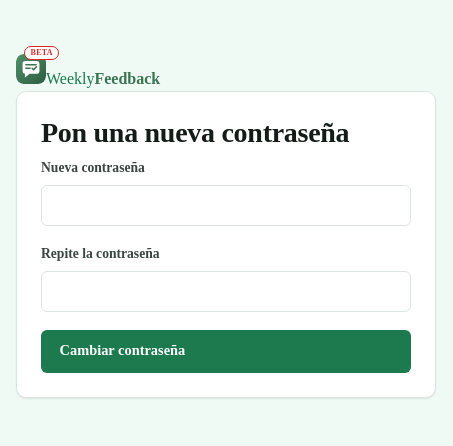
Scenario: ResetPasswordPage › error que no es ApiError: cae en el mensaje genérico de enlace inválido
The image size is (453, 446).
Type "password123" into the password field labelled "Nueva contraseña". click: [226, 206]
box: [41,185,411,226]
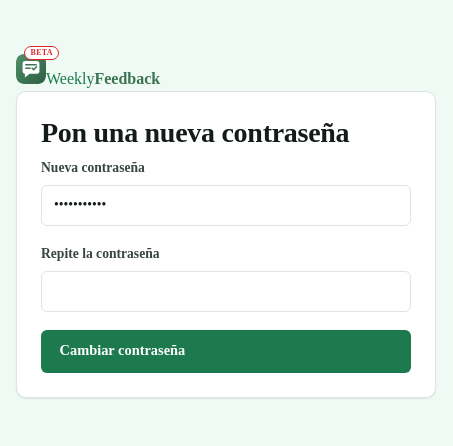
Type "password123" into the password field labelled "Repite la contraseña". click: [226, 292]
box: [41,271,411,312]
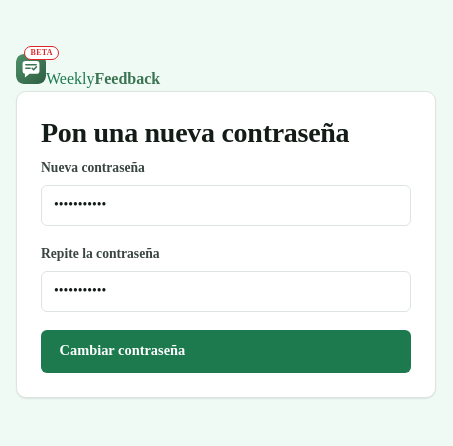
Click the button "Cambiar contraseña". click: [122, 350]
box: [41,330,411,373]
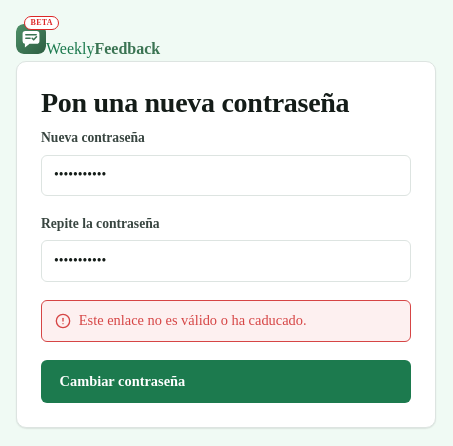
Expected: the message reads "Este enlace no es válido o ha caducado.", [79,312,307,328]
